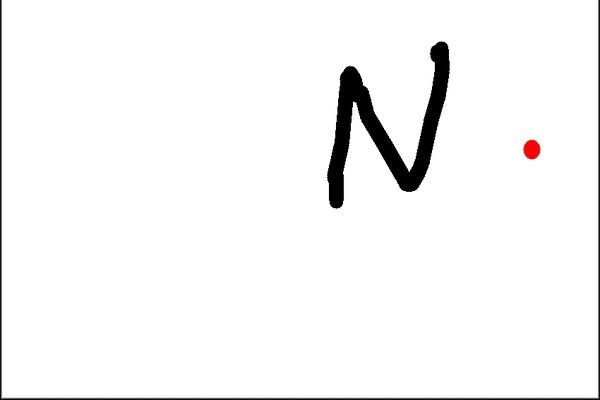N: (320, 37, 453, 214)
